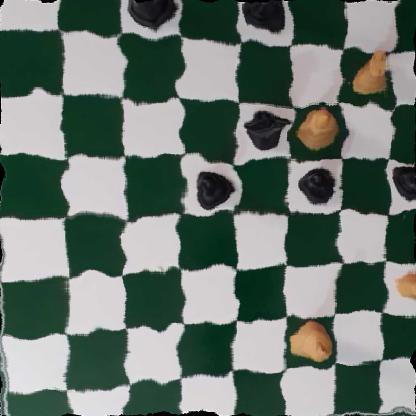black-king: (244, 0, 291, 37)
black-knight: (242, 109, 295, 153)
black-pawn: (189, 171, 230, 209), (300, 164, 337, 206), (393, 160, 416, 198)
black-rook: (125, 0, 177, 29)
white-bishop: (295, 105, 337, 153)
white-king: (289, 315, 332, 364)
white-pawn: (391, 266, 416, 308)
white-rook: (350, 44, 401, 101)
